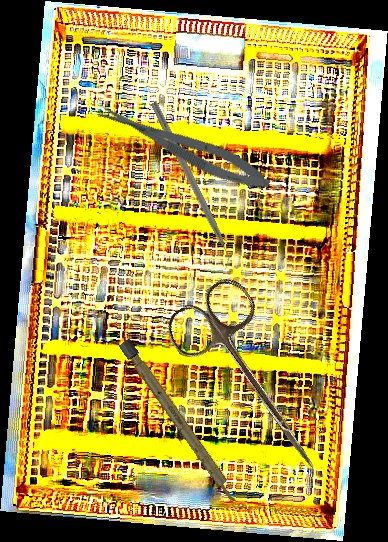Chopper: (141, 100, 237, 273)
Iris Scissors: (158, 271, 354, 492)
Micro Scissor: (94, 93, 275, 199)
Scalpel Handle: (118, 338, 242, 507)
